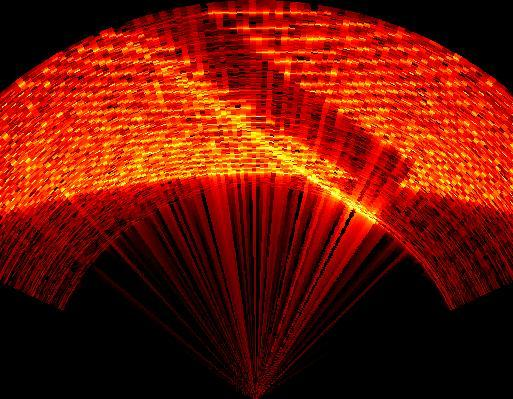pipe: (142, 6, 412, 200)
